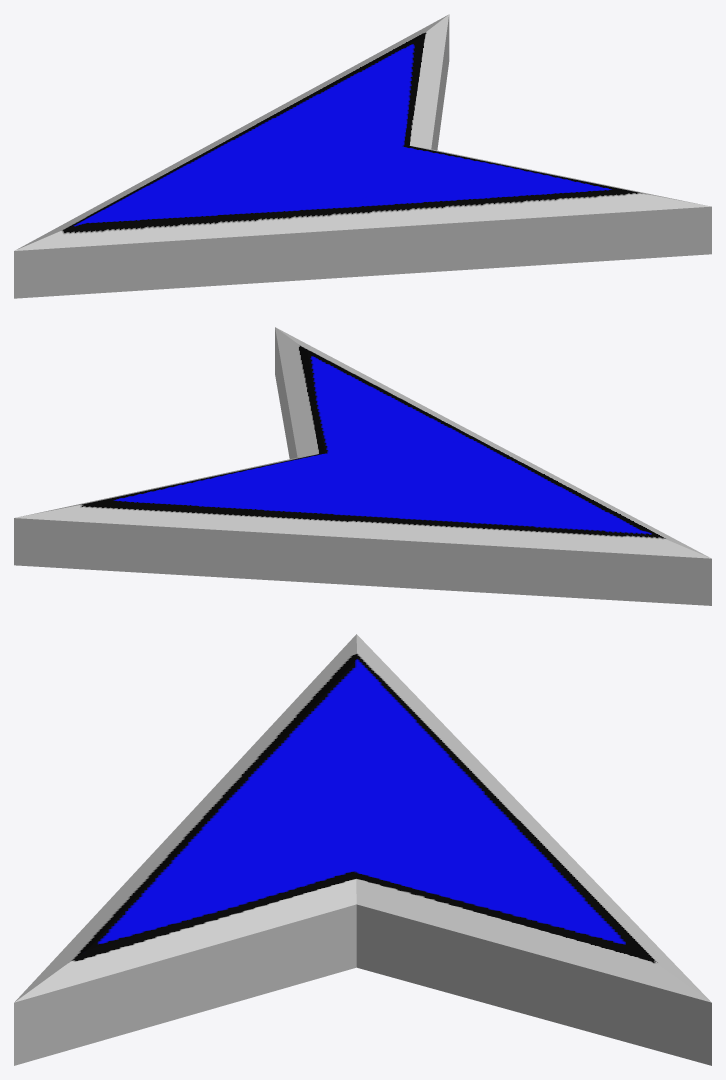
The model's file is Arrow.fbx.
3 renders of one model, top to bottom at view 1: azimuth 30°, elevation 25°; view 2: azimuth 150°, elevation 25°; view 3: azimuth 270°, elevation 25°, orthographic. The views are drawn at different scales.
Parts seen in each view (by area): view 1: 立方体; view 2: 立方体; view 3: 立方体.
Part boxes in pixels (x1,y1,x2,y2): 立方体: [14, 14, 711, 298]; 立方体: [14, 327, 711, 605]; 立方体: [14, 634, 711, 1065].
Size of the model in its own units: 450 by 46 by 360.
Materials: 1 (1 with a texture image).
